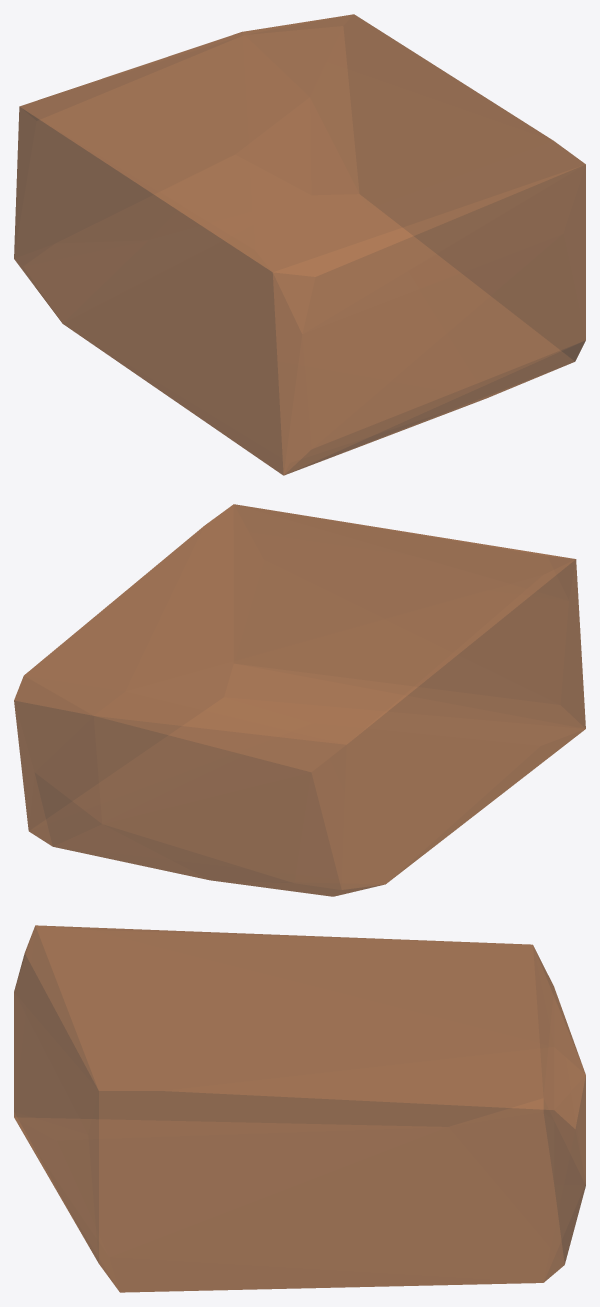
3 views of the same model, one above another, from view 1: azimuth 30°, elevation 25°; view 2: azimuth 150°, elevation 25°; view 3: azimuth 270°, elevation 25° (orthographic). The views are drawn at different scales.
Parts seen in each view (by area): view 1: Shape_IndexedFaceSet.005_Shape_IndexedFaceSet.10110; view 2: Shape_IndexedFaceSet.005_Shape_IndexedFaceSet.10110; view 3: Shape_IndexedFaceSet.005_Shape_IndexedFaceSet.10110.
Boxes of the visible parts, box(x1,y1,x2,y2) form: Shape_IndexedFaceSet.005_Shape_IndexedFaceSet.10110: box(14, 14, 585, 475); Shape_IndexedFaceSet.005_Shape_IndexedFaceSet.10110: box(14, 504, 585, 896); Shape_IndexedFaceSet.005_Shape_IndexedFaceSet.10110: box(14, 925, 585, 1292).
Bounding box in the file's own units: 0.0135 × 0.00803 × 0.0197.
